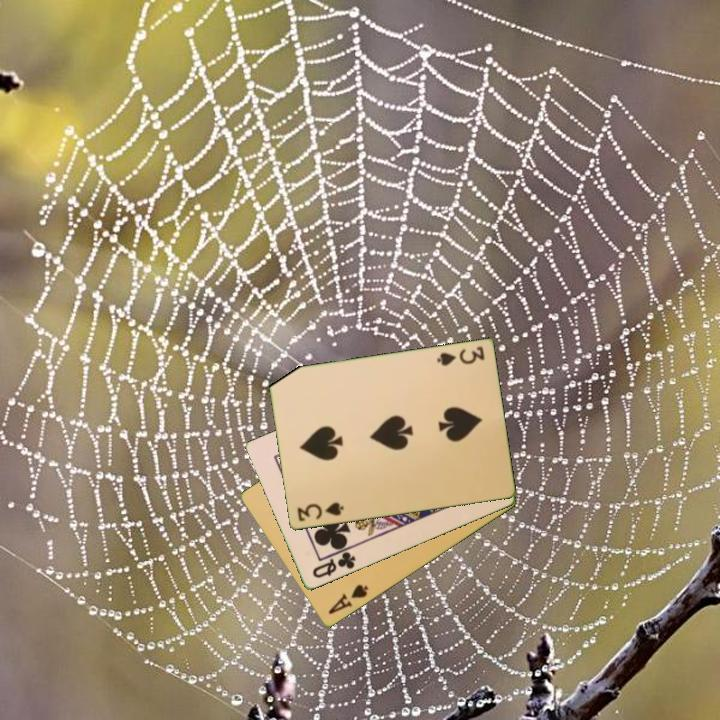3s: (433, 343, 487, 369), (294, 499, 346, 525)
As: (324, 581, 371, 618)
Qc: (309, 545, 359, 582)
